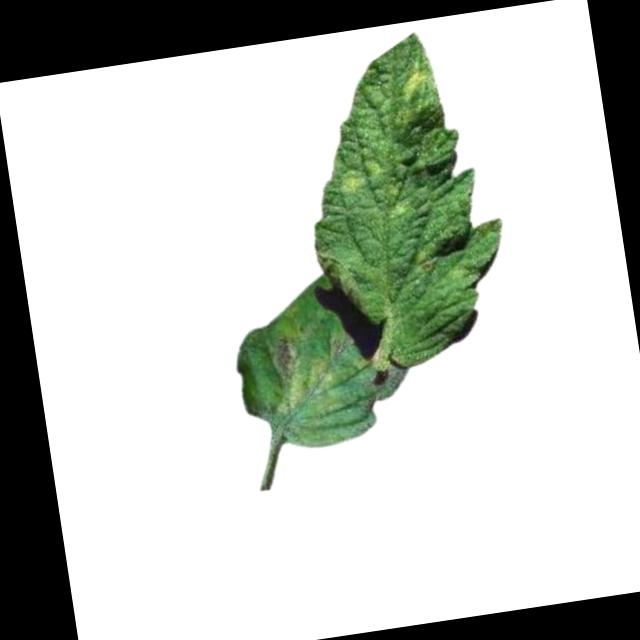Leaf_Mold: (267, 330, 338, 420), (399, 66, 431, 104), (339, 165, 370, 200)
